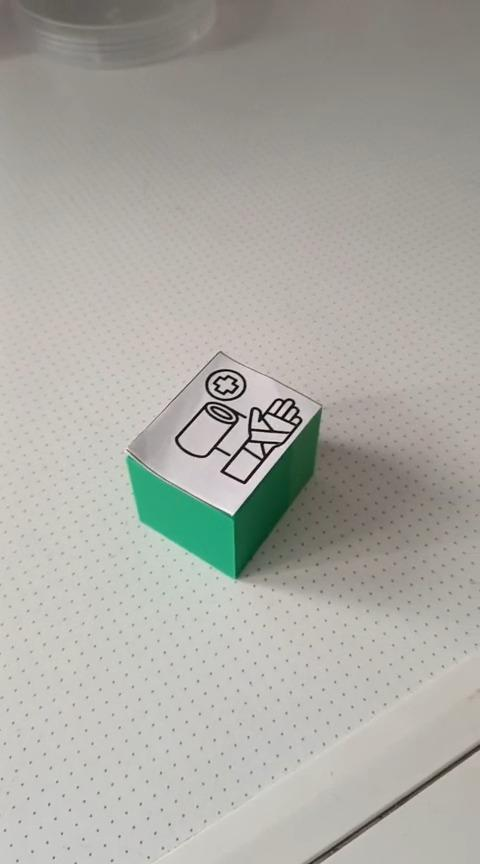Bandages: (128, 350, 323, 582)
